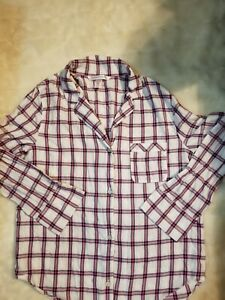squared: (3, 54, 214, 296)
